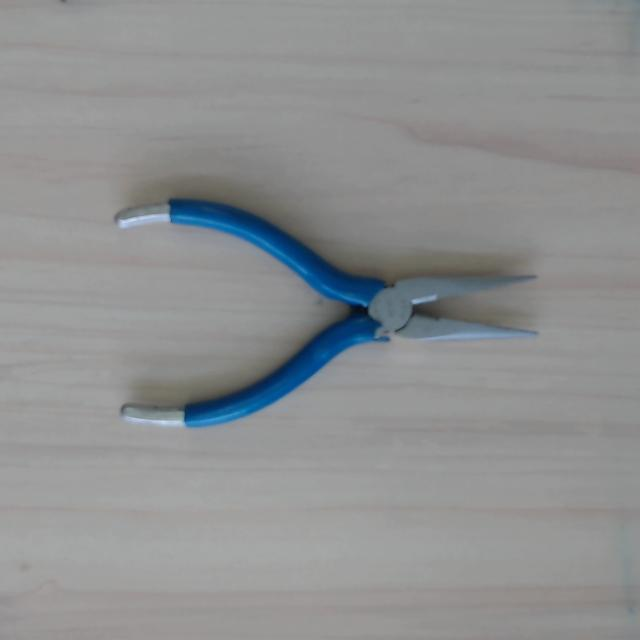Tang-Jepit-Biru: (112, 184, 540, 430)
